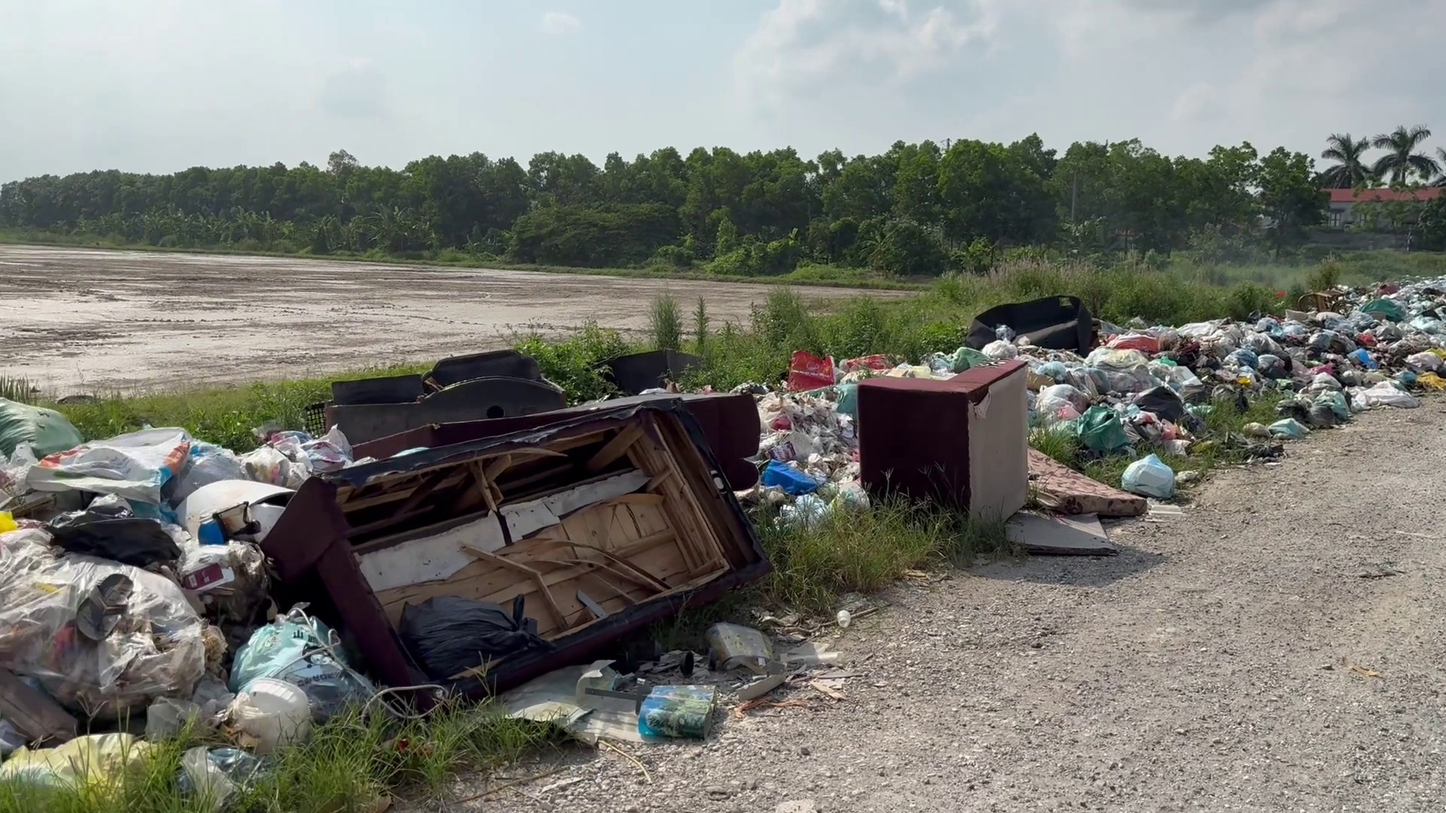garbage: (0, 729, 186, 809), (54, 500, 186, 569), (81, 572, 127, 645)
